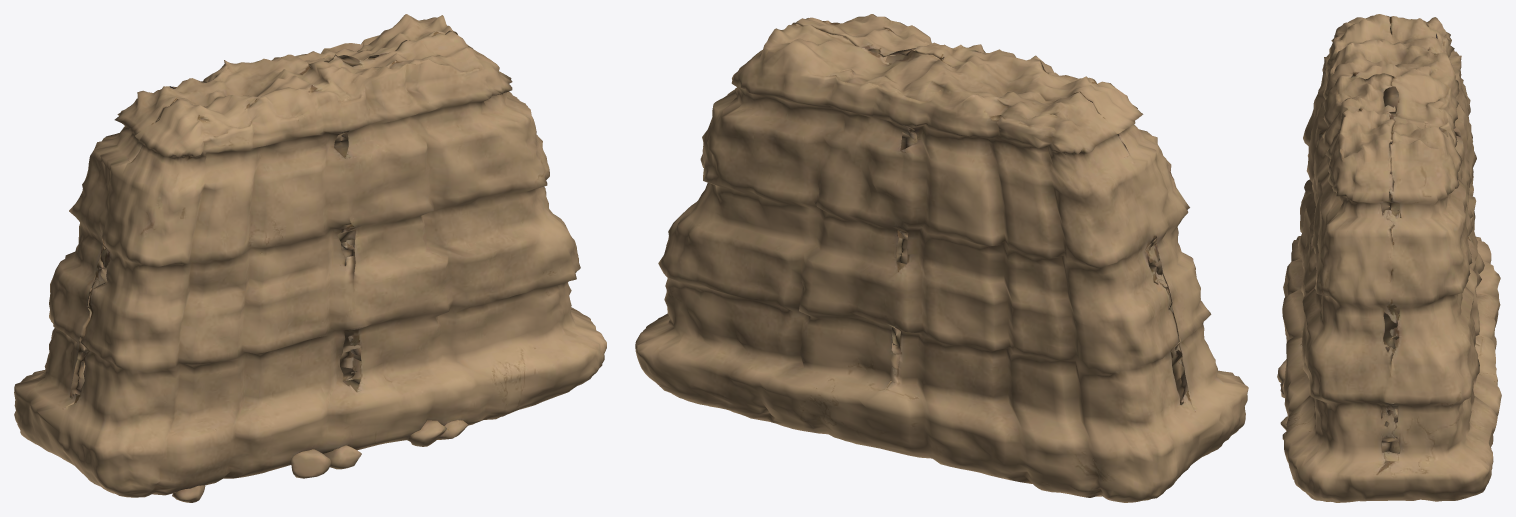
Rendered from sandstone-wall.glb.
3 renders of one model, left to right at view 1: azimuth 30°, elevation 25°; view 2: azimuth 150°, elevation 25°; view 3: azimuth 270°, elevation 25°, orthographic. The views are drawn at different scales.
Parts seen in each view (by area): view 1: cliff_stone; view 2: cliff_stone; view 3: cliff_stone.
Part boxes in pixels (x1=…): cliff_stone: x1=14, y1=14, x2=606, y2=502; cliff_stone: x1=635, y1=14, x2=1248, y2=502; cliff_stone: x1=1277, y1=14, x2=1501, y2=502.
Bounding box in the file's own units: 4.09 × 2.69 × 1.64.
Materials: 1 (1 with a texture image).
